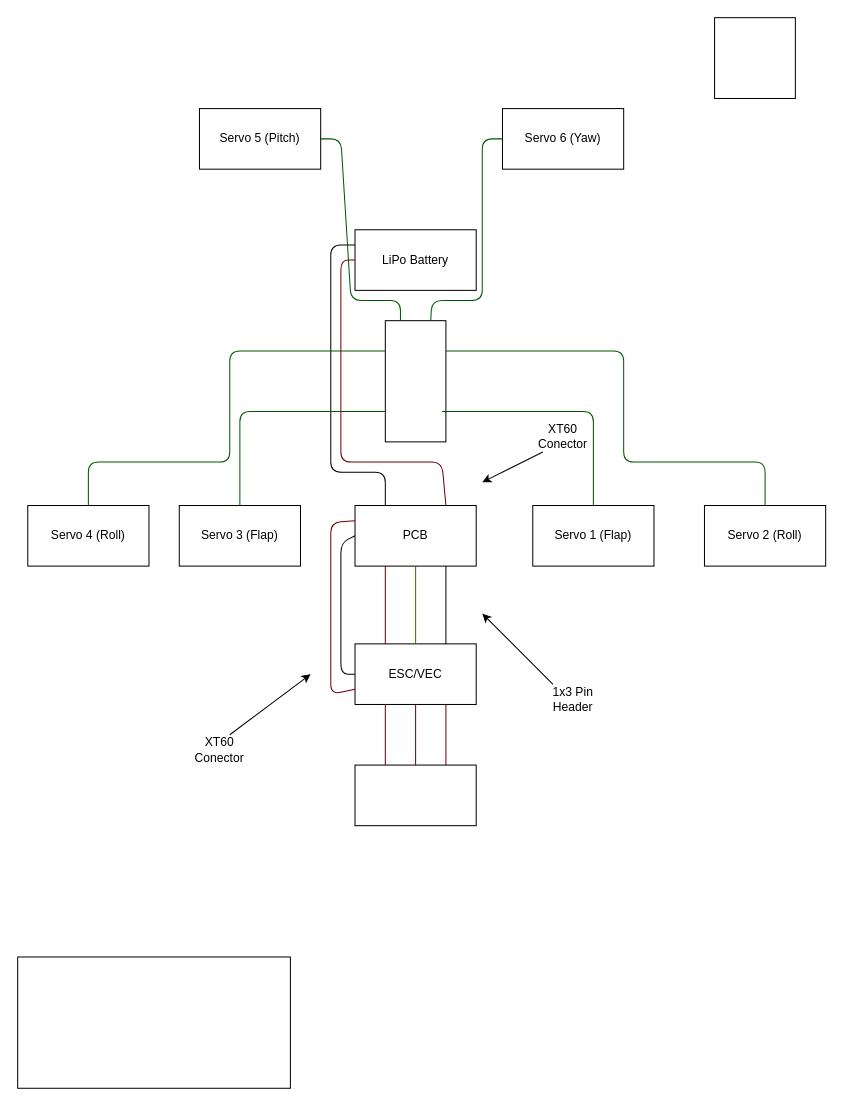
Some shapes in this 843 by 1106 pixel diagram are drawn without their labels. The shapes that lost their labels are listed below. From the top down, each one's centre as x and y in pixels, then its label:
(754,57): TOP
(415,381): PCA9685
(415,795): Brushless Motor
(153,1022): REF WIRING DIAGRAM
